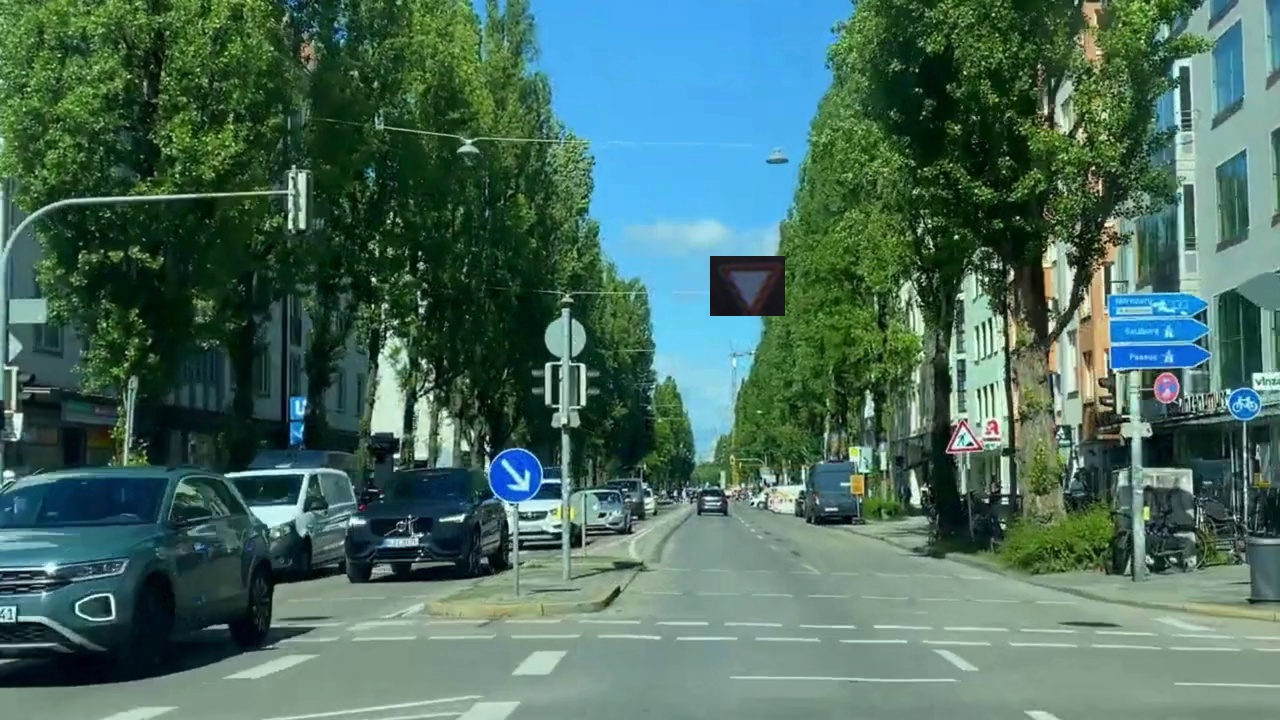Yield: (710, 256, 785, 316)
